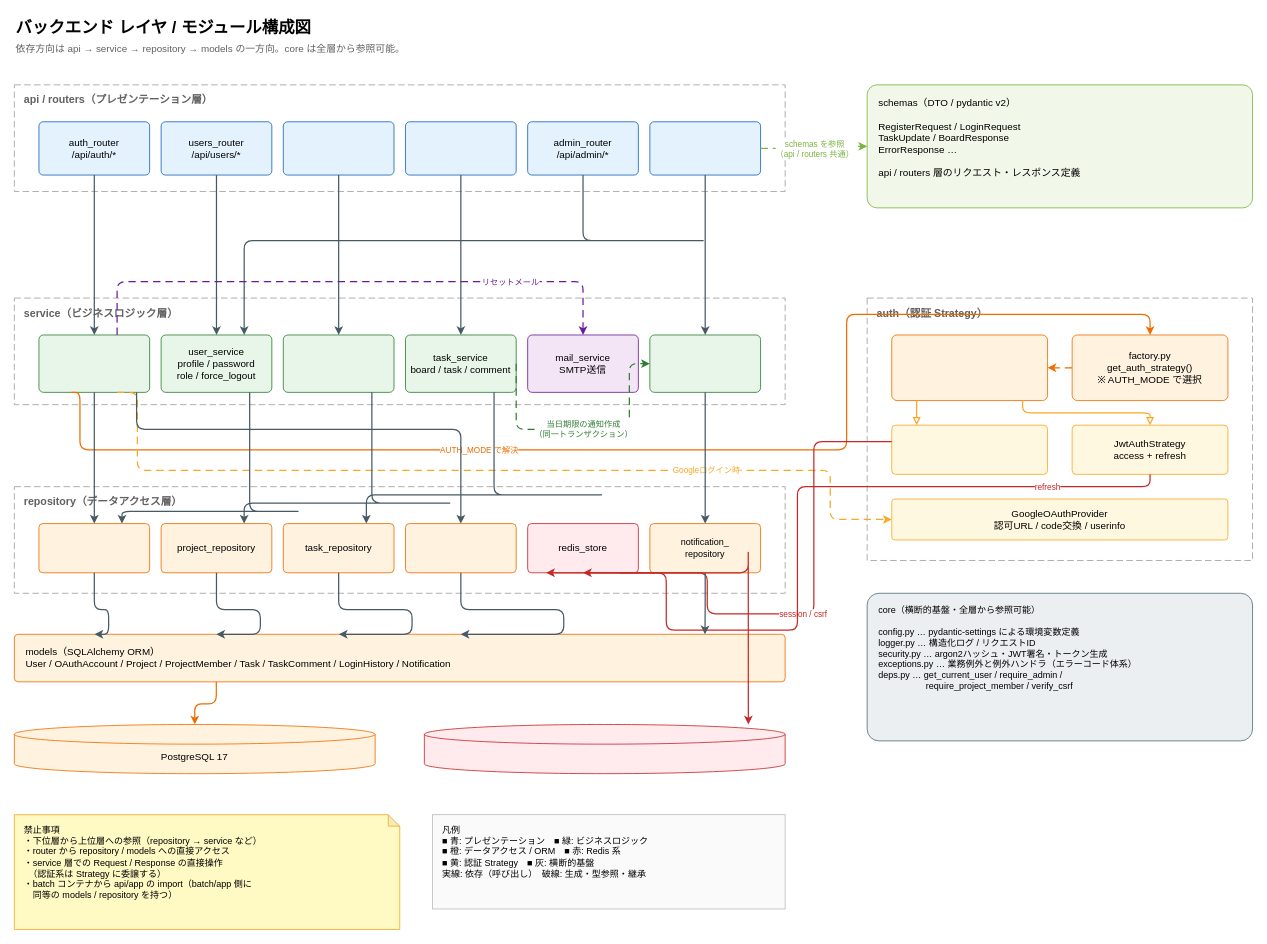
The diagram is 1267 pixels wide and 944 high, and some of its shapes have lost their labels. The shapes that lost their labels are listed below. From the top down, each one's centre as x and y in pixels, then its label:
At (338,148): "projects_router /api/projects/*".
At (460,148): "tasks_router /api/tasks/*".
At (705,148): "notifications_router /api/notifications/*".
At (94,363): "auth_service register / login logout / refresh oauth / reset".
At (338,363): "project_service CRUD / member".
At (705,363): "notification_service list / unread_count mark_read / read_all create_due_today".
At (969,367): "AuthStrategy（ABC） login / authenticate logout / refresh".
At (969,449): "SessionAuthStrategy Cookie + Redis session".
At (94,548): "user_repository".
At (460,548): "login_history_ repository".
At (604,749): "Redis 8（TTL失効）".
